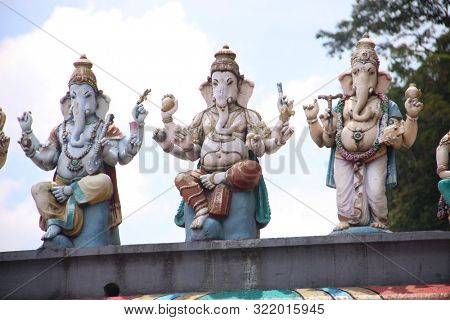Hindu Temple: (43, 45, 417, 234)
